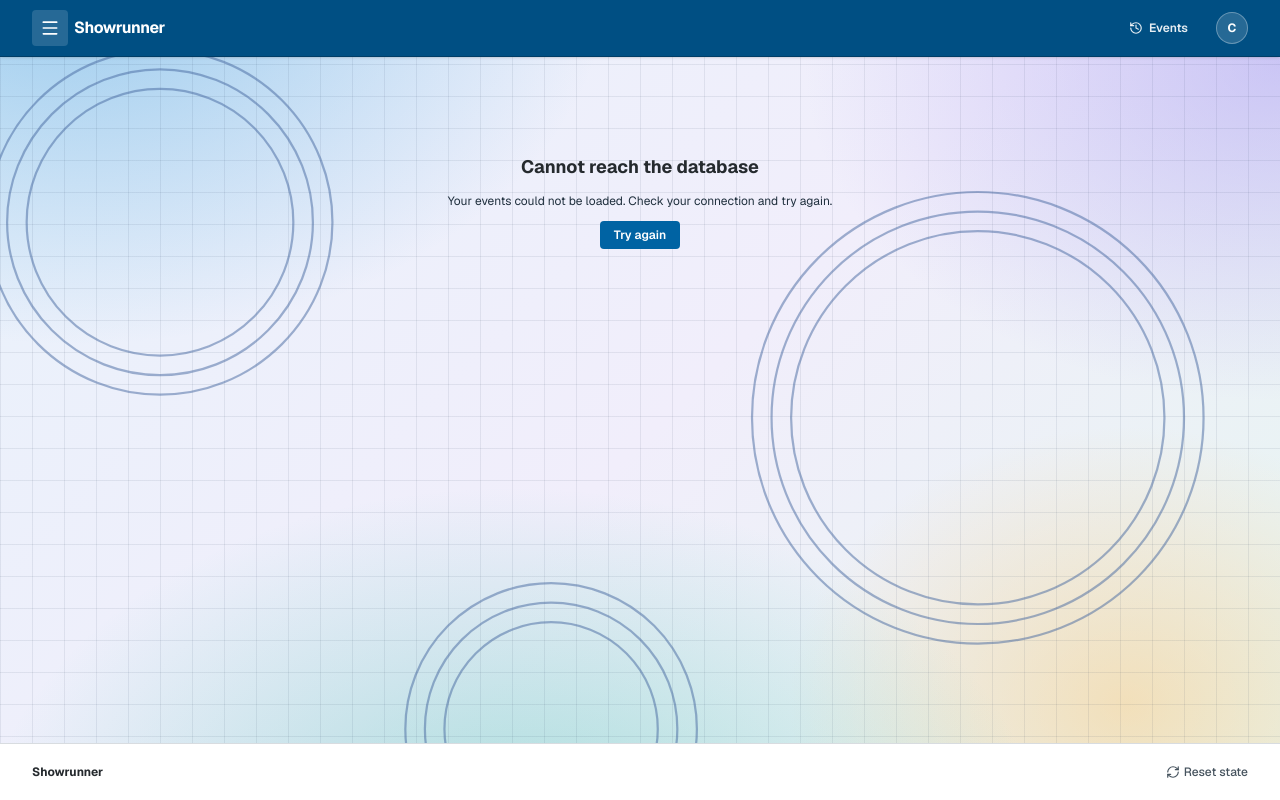
Test case: when the events cannot be loaded › the menu says so, rather than "No events yet", and offers a retry that works
Check: the heading "Cannot reach the database" is shown, box [521,153,759,181]
Check: the link "New event" is not shown
Click the button "Try again": (640,235) [600,221,680,249]
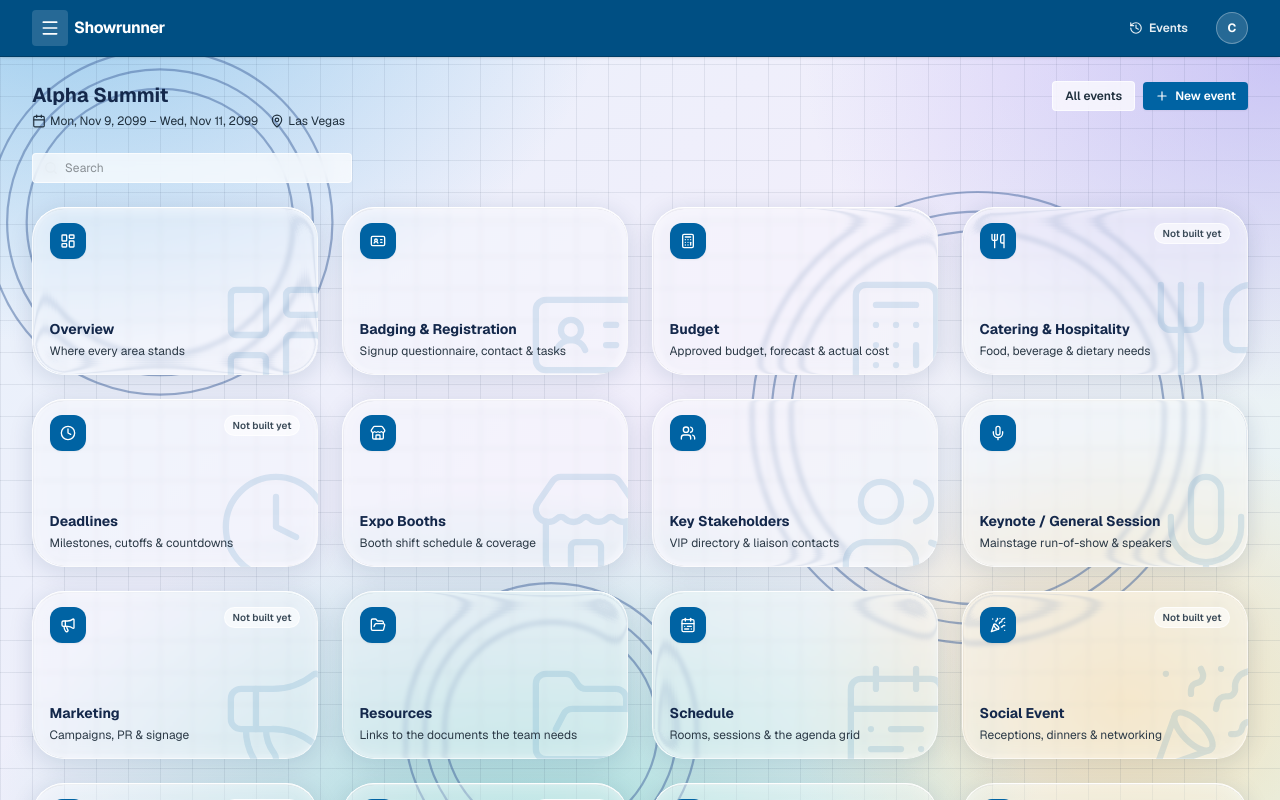
Check: the heading "Alpha Summit" is shown, box [32,82,168,108]
